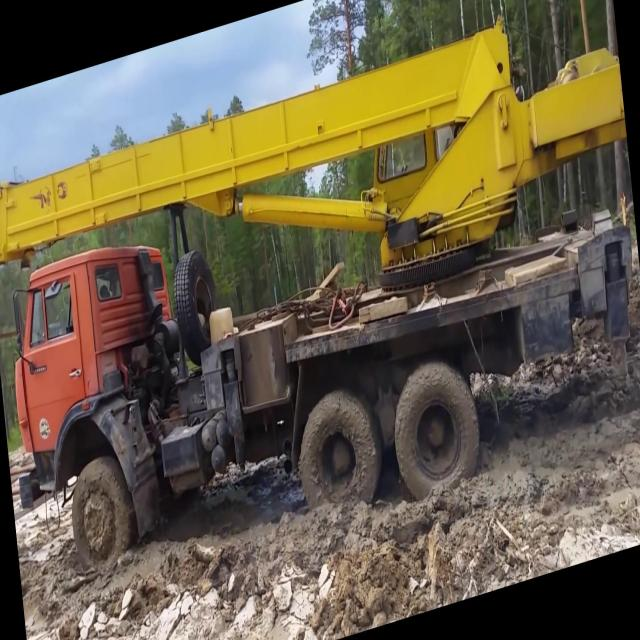crane: (0, 0, 640, 627)
